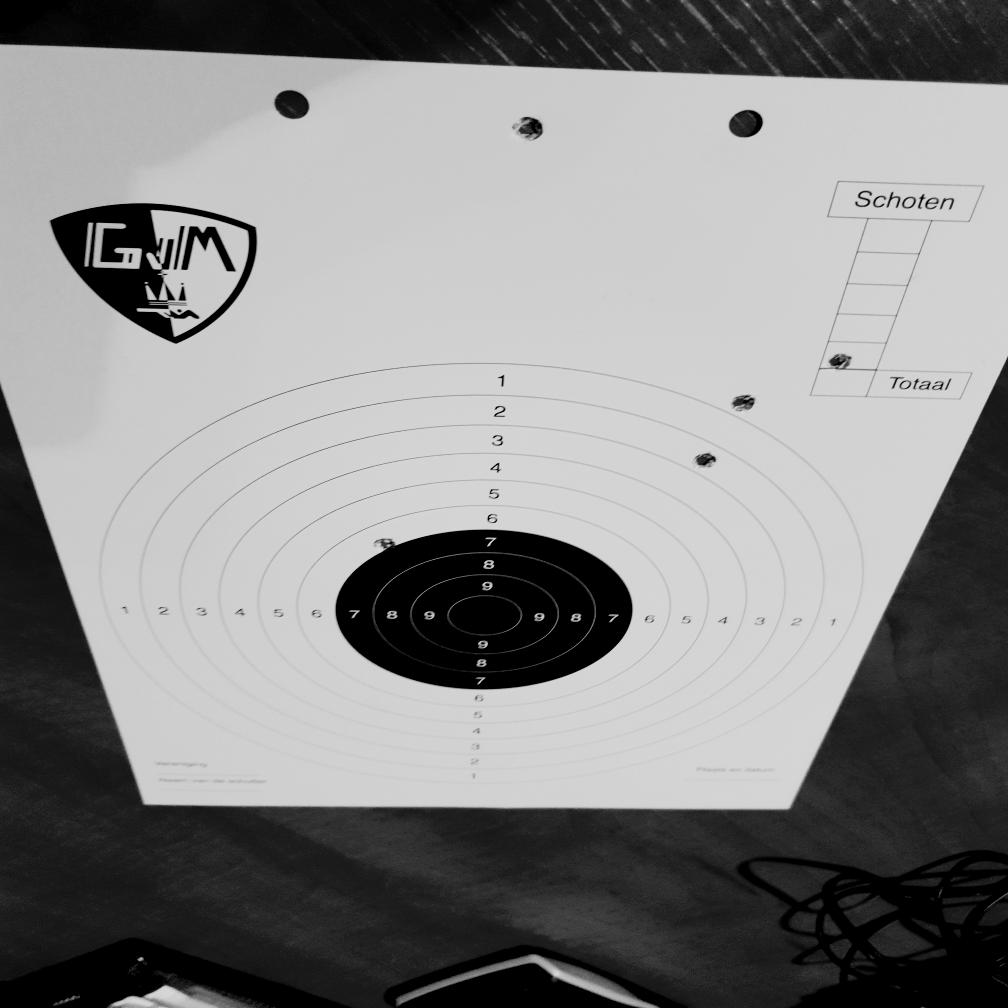0: (510, 115, 544, 142), (825, 353, 854, 372), (731, 394, 758, 411)
2: (691, 451, 718, 469)
7: (372, 537, 398, 553)
Target: (93, 361, 866, 789)
black_contour: (336, 529, 631, 692)
